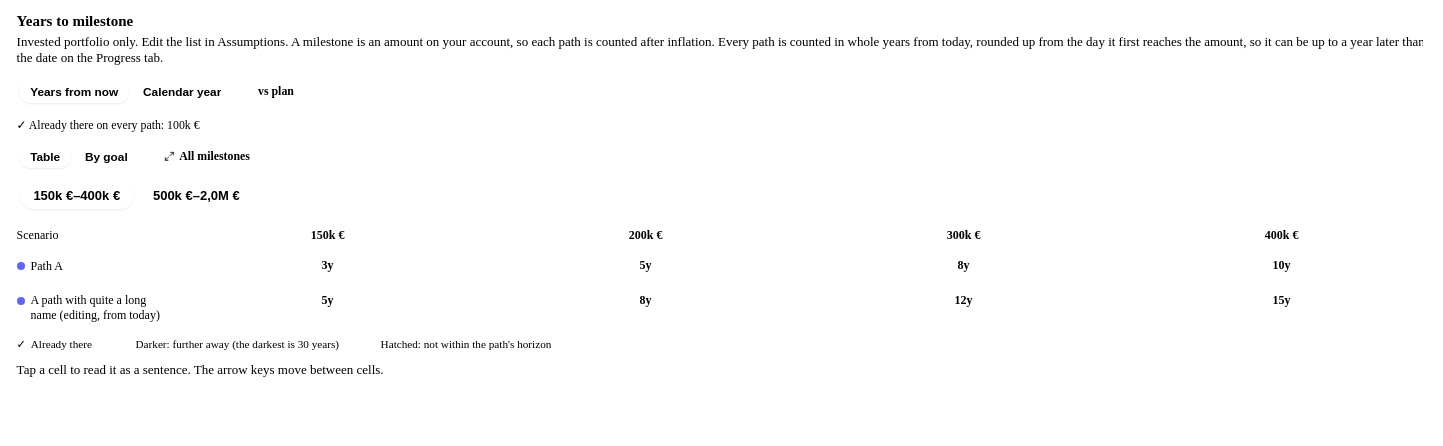
it: reading by goal › shows how far each path is from the plan, once the table compares with it
Step 1. Click the radio button labelled "By goal" → (106, 157), box [74, 146, 139, 168]
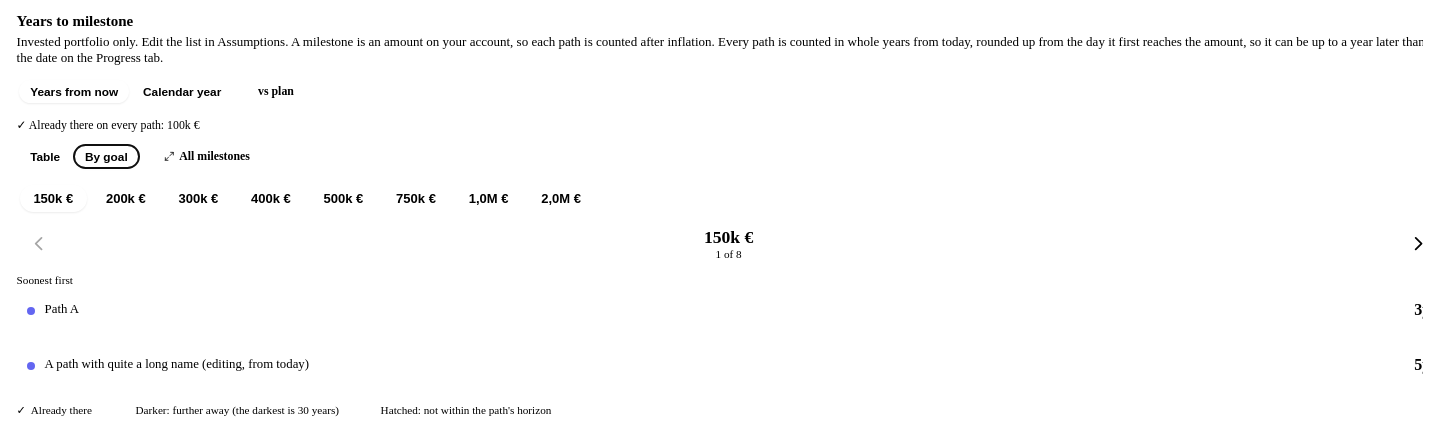
Step 2. Click the button "vs plan" → (276, 92), box [247, 80, 305, 104]
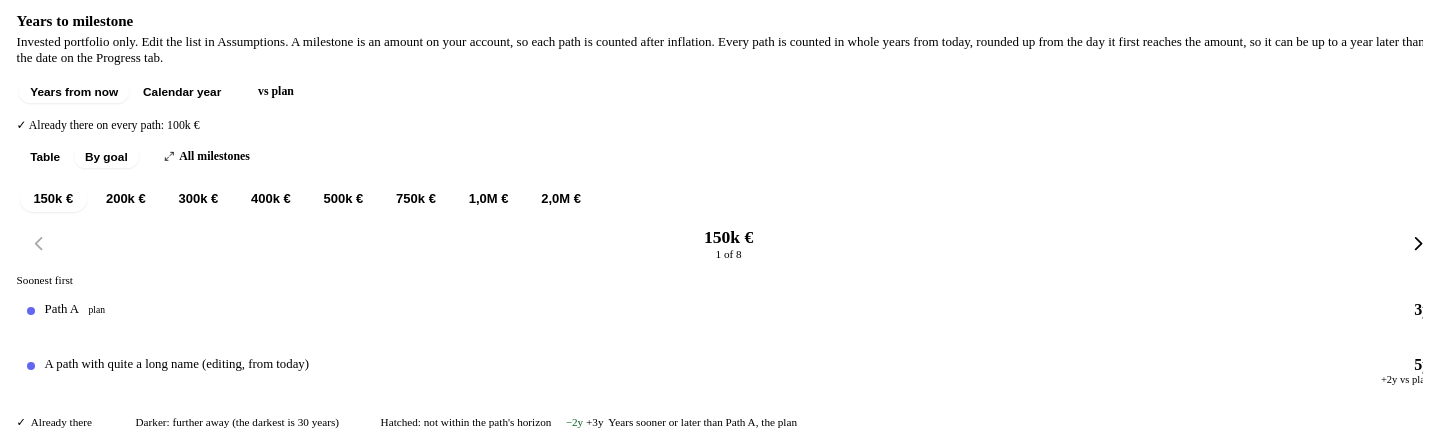
Check: the list item "Path A plan 3y" is shown, box [27, 301, 1423, 318]
Check: the 2nd list item reads "A path with quite a long name (editing, from today) 5y +2y vs plan", box [1381, 374, 1423, 385]
